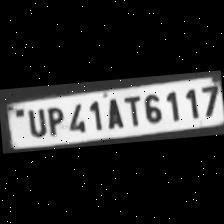1: (84, 98, 106, 132), (162, 88, 183, 122), (180, 86, 200, 119)
4: (63, 100, 88, 134)
6: (140, 91, 164, 126)
7: (197, 83, 222, 118)
A: (101, 96, 125, 130)
P: (43, 103, 66, 137)
T: (121, 93, 143, 128)
U: (23, 105, 48, 138)
